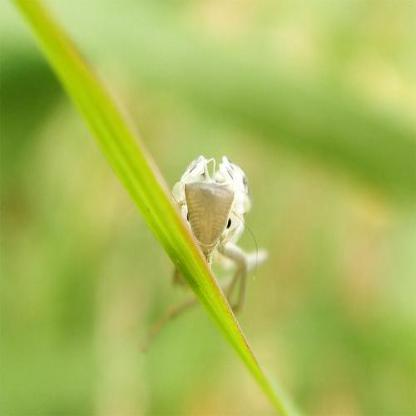Green-Leafhopper: (163, 143, 272, 335)
